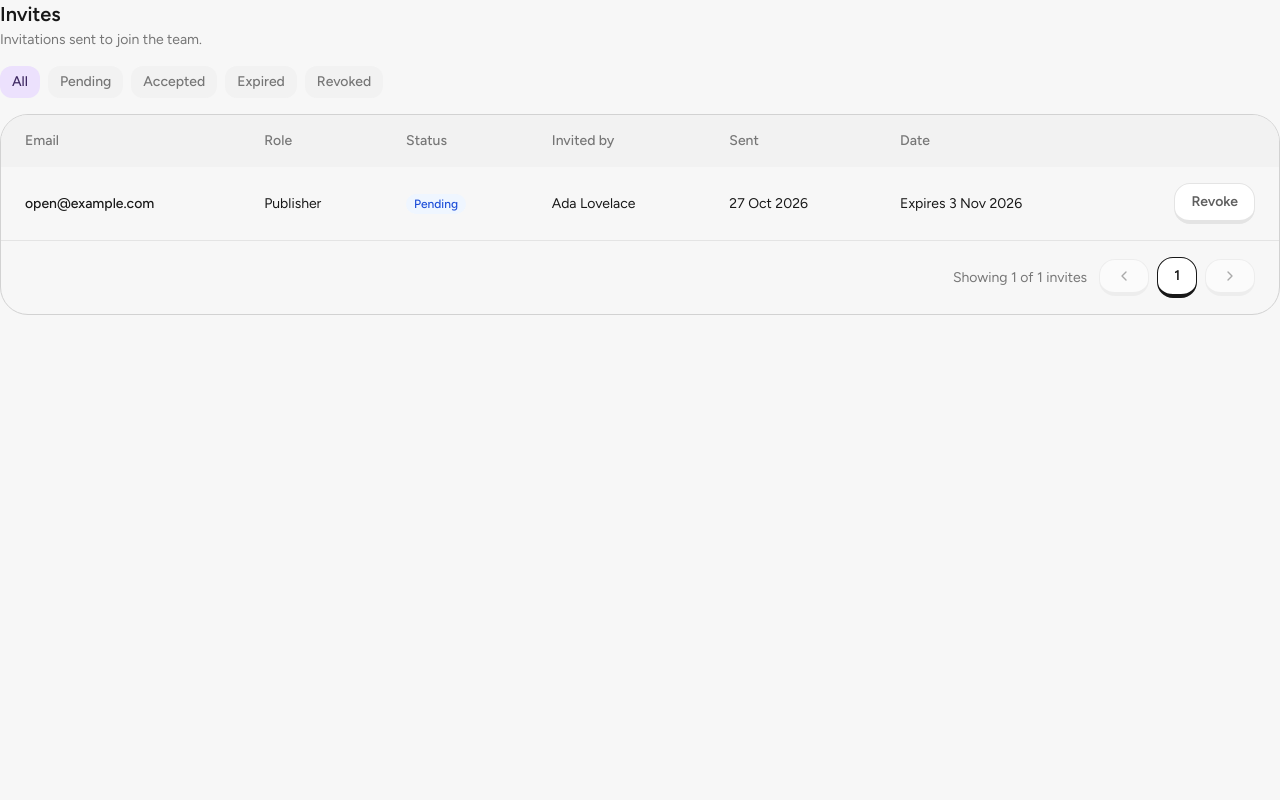
Test case: InvitesSection › disables the confirm button while revoking and shows a failure
What coordinates should you click on to do the following:
click the button "Revoke"
I would click on:
 (1215, 204)
Its box is [1174,183,1255,224].
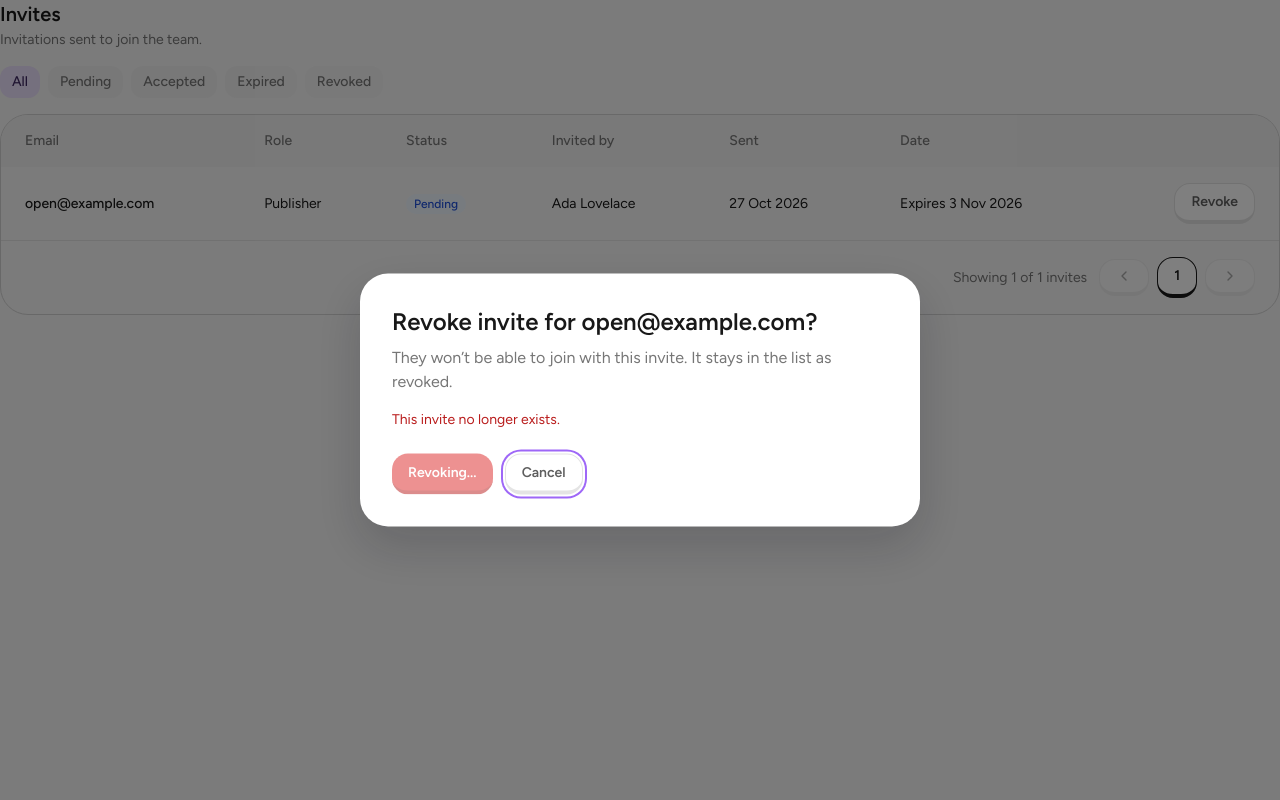
Now the button "Revoking..." is disabled, box [392,454,493,494]
Now the message reads "This invite no longer exists.", box [392,410,560,428]
